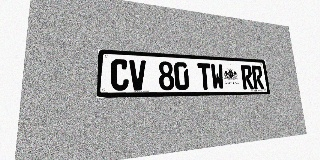0: (174, 62, 189, 90)
8: (158, 61, 174, 90)
C: (110, 59, 129, 91)
R: (241, 65, 254, 89), (251, 65, 264, 89)
T: (197, 63, 212, 90)
V: (129, 60, 146, 91)
W: (210, 63, 225, 90)
